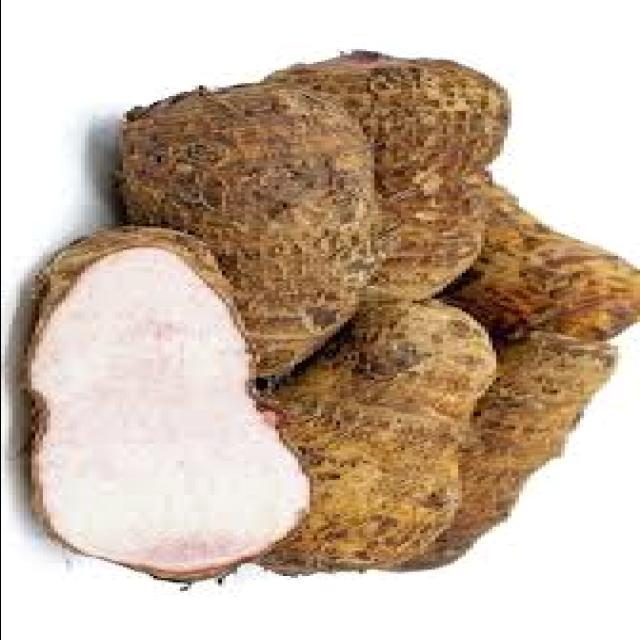Taro Root: (114, 88, 390, 394), (54, 240, 302, 560), (250, 324, 507, 598), (387, 342, 629, 584)
